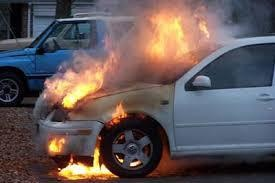fire: (41, 42, 118, 111), (143, 4, 214, 62)
